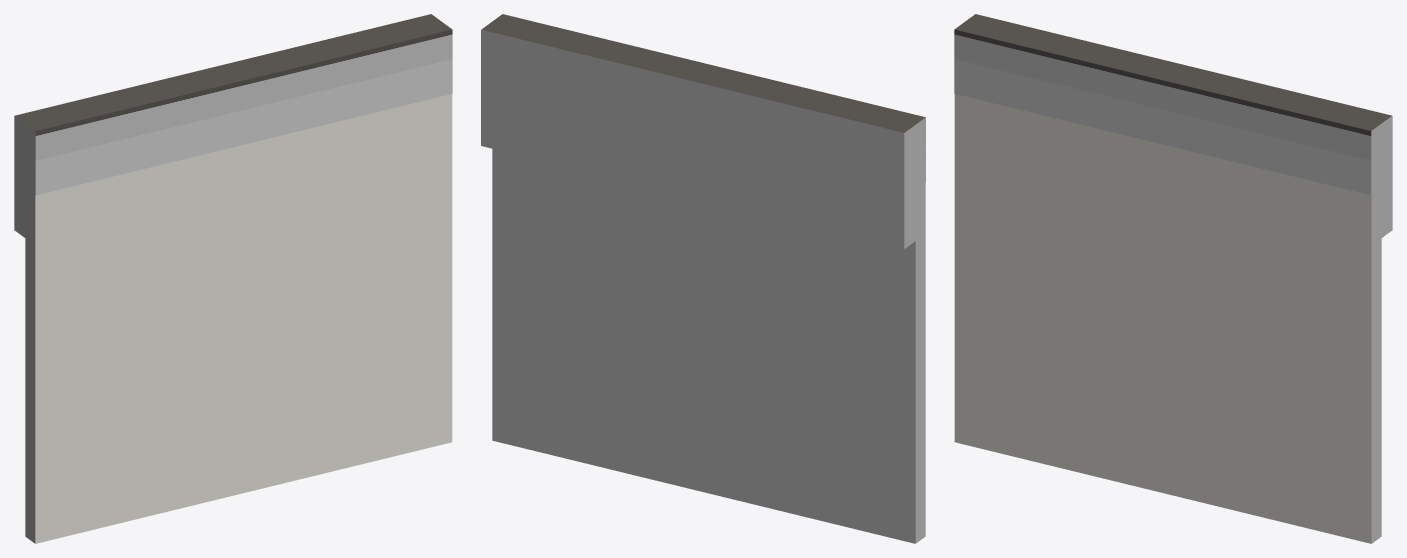
File: Police_station_back_wall_type3.FBX
3 renders of one model, left to right at view 1: azimuth 30°, elevation 25°; view 2: azimuth 150°, elevation 25°; view 3: azimuth 330°, elevation 25°, orthographic.
Parts seen in each view (by area): view 1: Police_station_back_wall_type3_002; view 2: Police_station_back_wall_type3_002; view 3: Police_station_back_wall_type3_002.
Part boxes in pixels (x1,y1,x2,y2): Police_station_back_wall_type3_002: (14,14,452,543); Police_station_back_wall_type3_002: (481,14,925,543); Police_station_back_wall_type3_002: (954,14,1392,543).
Size of the model in its own units: 1491 by 1410 by 131.
Materials: 1 (1 with a texture image).
